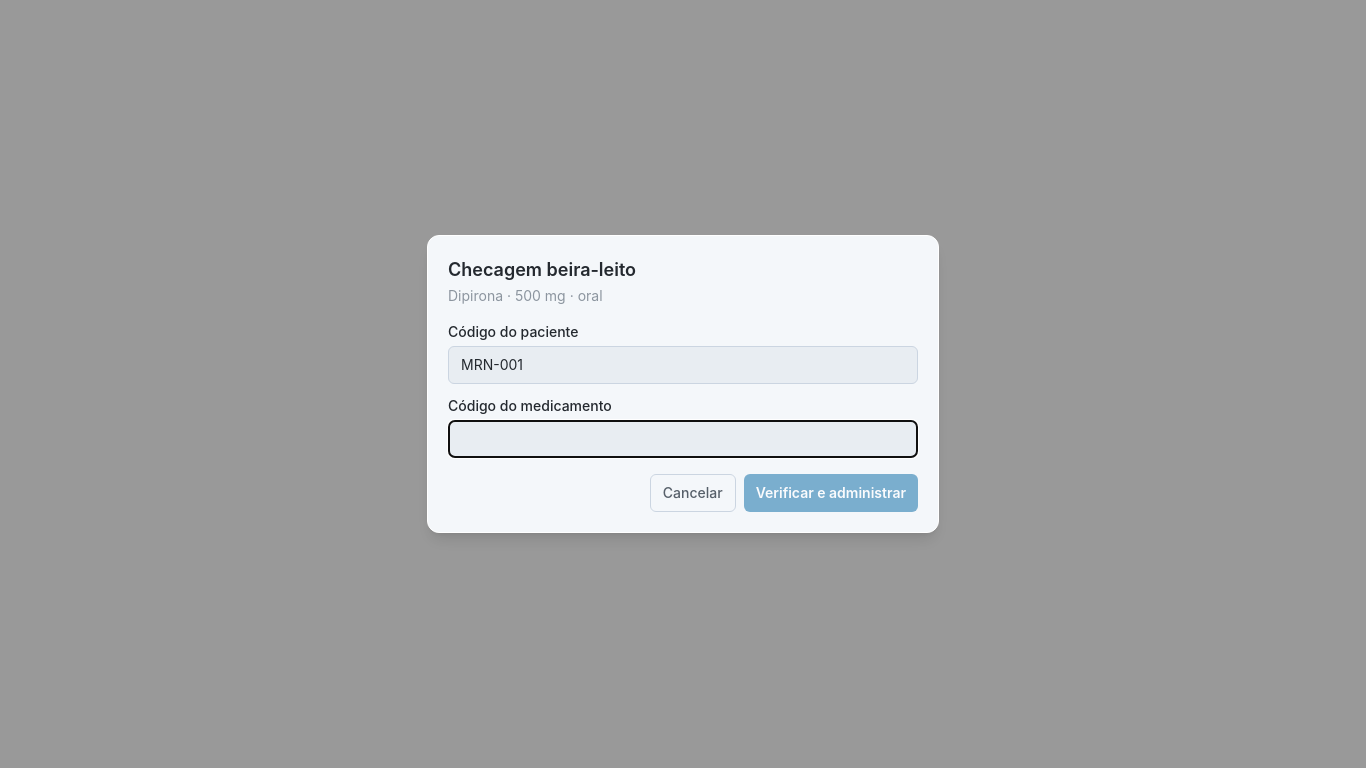
Test: BcmaCheckModal › on 422 shows the 5-certos breakdown with the failed rights and blocks (no record)
Type "WRONG-MED" into the field labelled "Código do medicamento" at [683, 439], box [448,420,918,458]
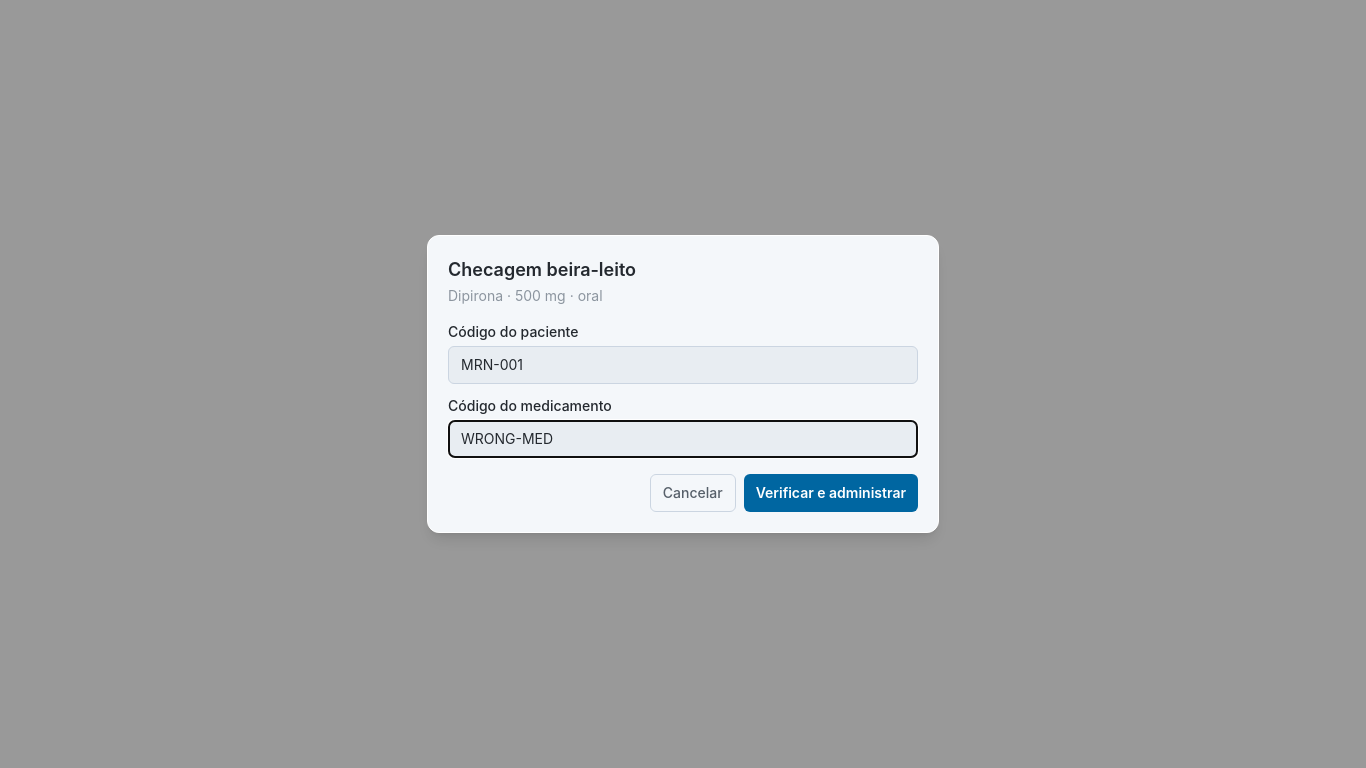
Click the button "Verificar e administrar" at [831, 493], box [744,474,918,512]
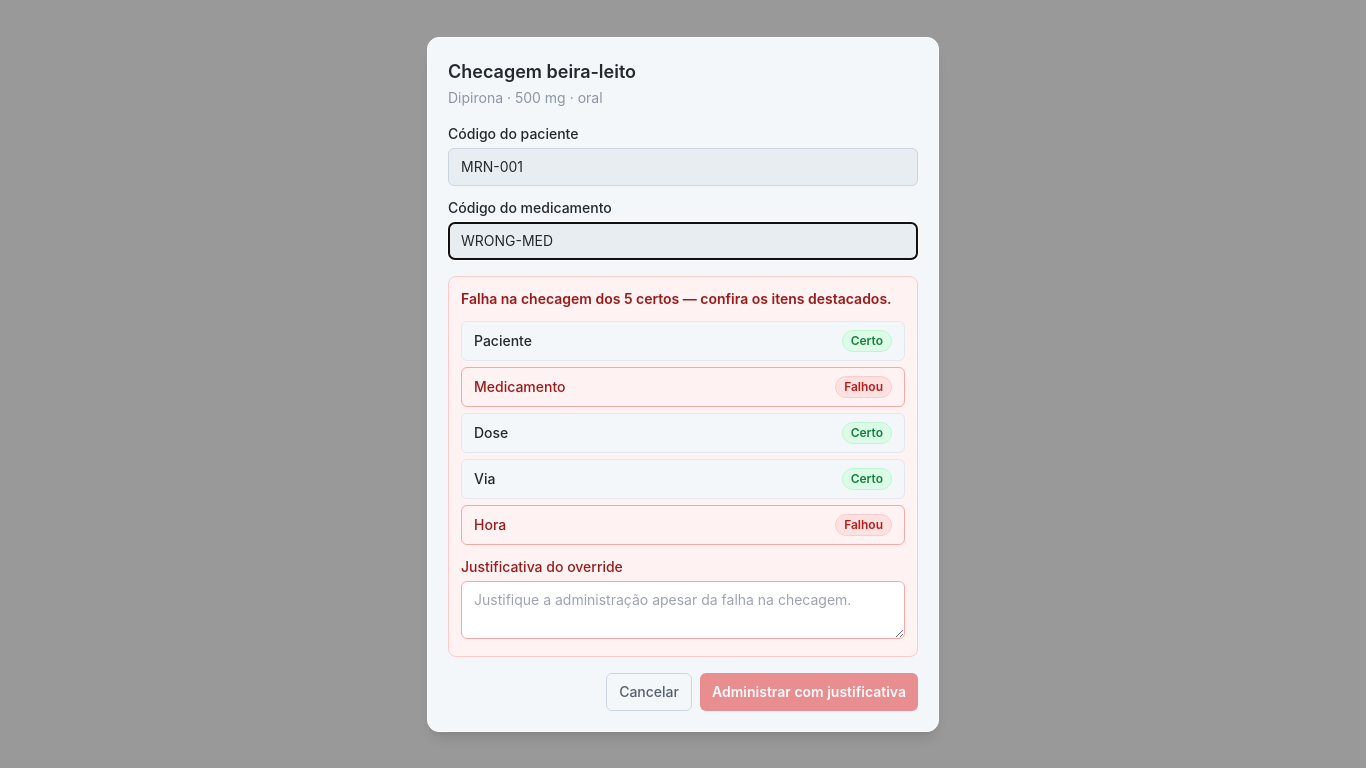
Check: the text "Falhou" is shown 2 times, box [835,376,892,398]; [835,514,892,536]
Check: the text box labelled "Justificativa do override" is shown, box [461,580,905,638]
